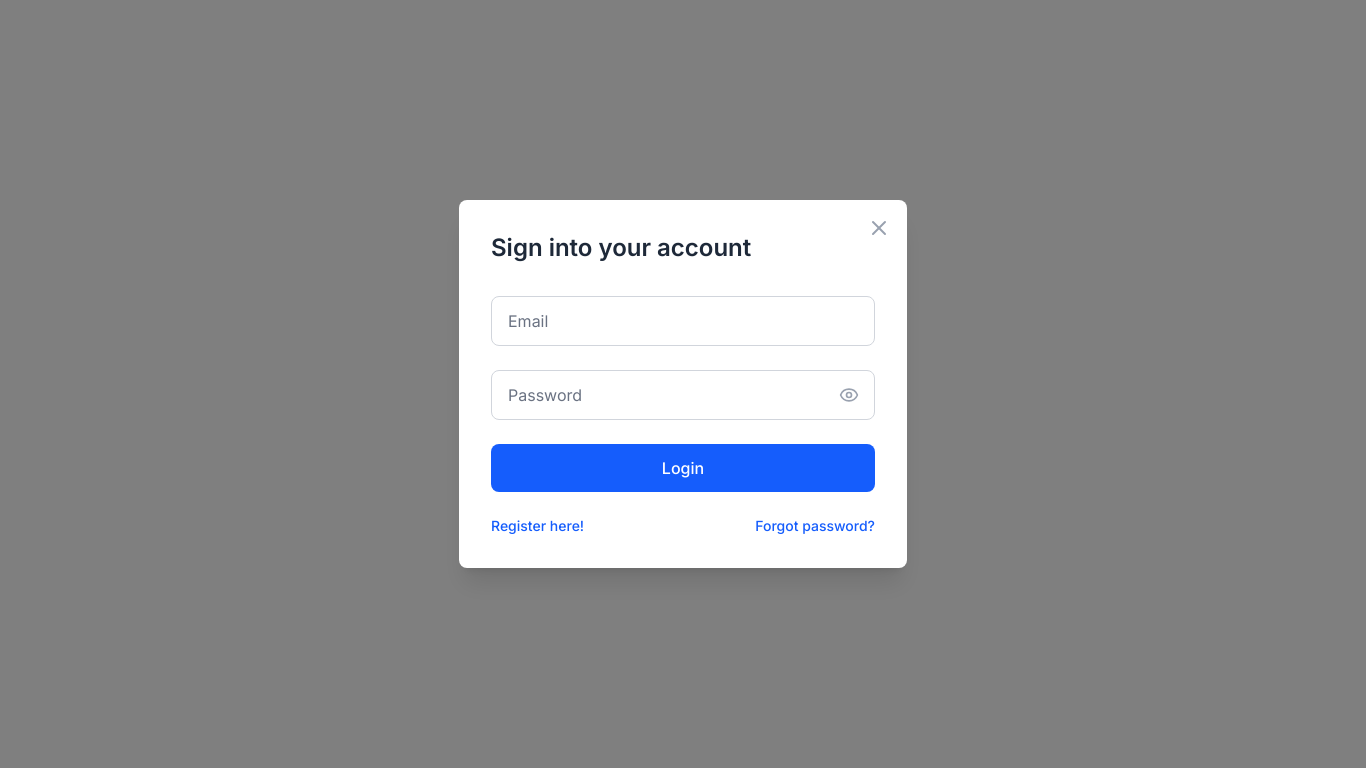
AuthModal Component › switches to register mode
Click the button "Register here!" at [538, 526], box [491,516,584,536]
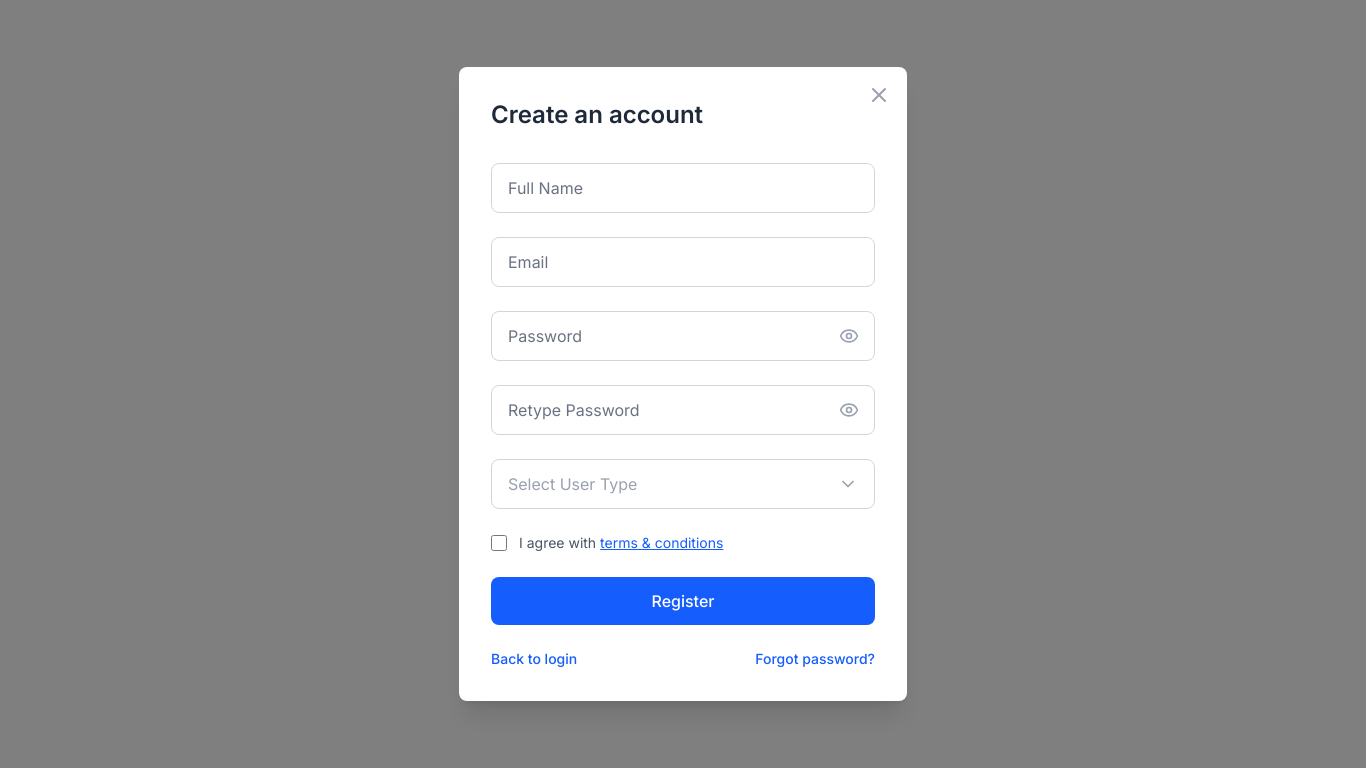
Check: the field with placeholder "Full Name" is shown, box [491,163,875,213]
Check: the password field with placeholder "Retype Password" is shown, box [491,385,875,435]
